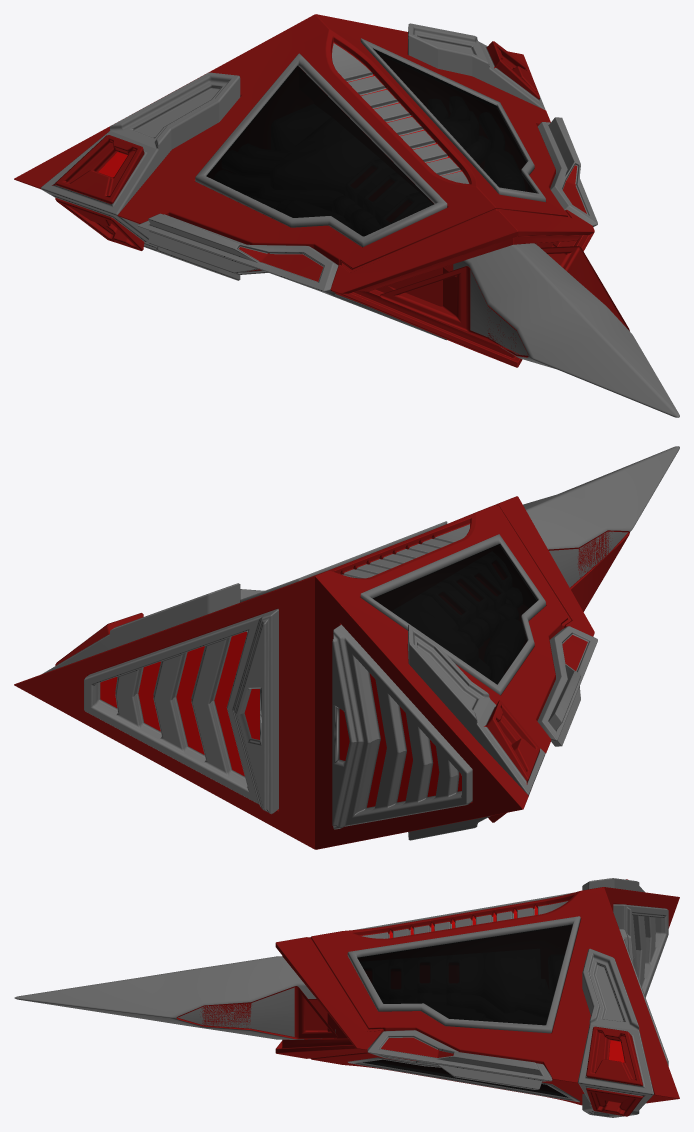
File: Techno_Assasin_detextured.obj
3 views of the same model, one above another, from view 1: azimuth 30°, elevation 25°; view 2: azimuth 150°, elevation 25°; view 3: azimuth 270°, elevation 25° (orthographic). The views are drawn at different scales.
Parts seen in each view (by area): view 1: Cone.024_Cone.037; view 2: Cone.024_Cone.037; view 3: Cone.024_Cone.037.
Boxes of the visible parts, left/top/right/bottom form: Cone.024_Cone.037: left=14, top=14, right=679, bottom=417; Cone.024_Cone.037: left=14, top=446, right=679, bottom=849; Cone.024_Cone.037: left=14, top=878, right=679, bottom=1117.
Bounding box in the file's own units: 1.72 × 0.8846 × 2.41.
